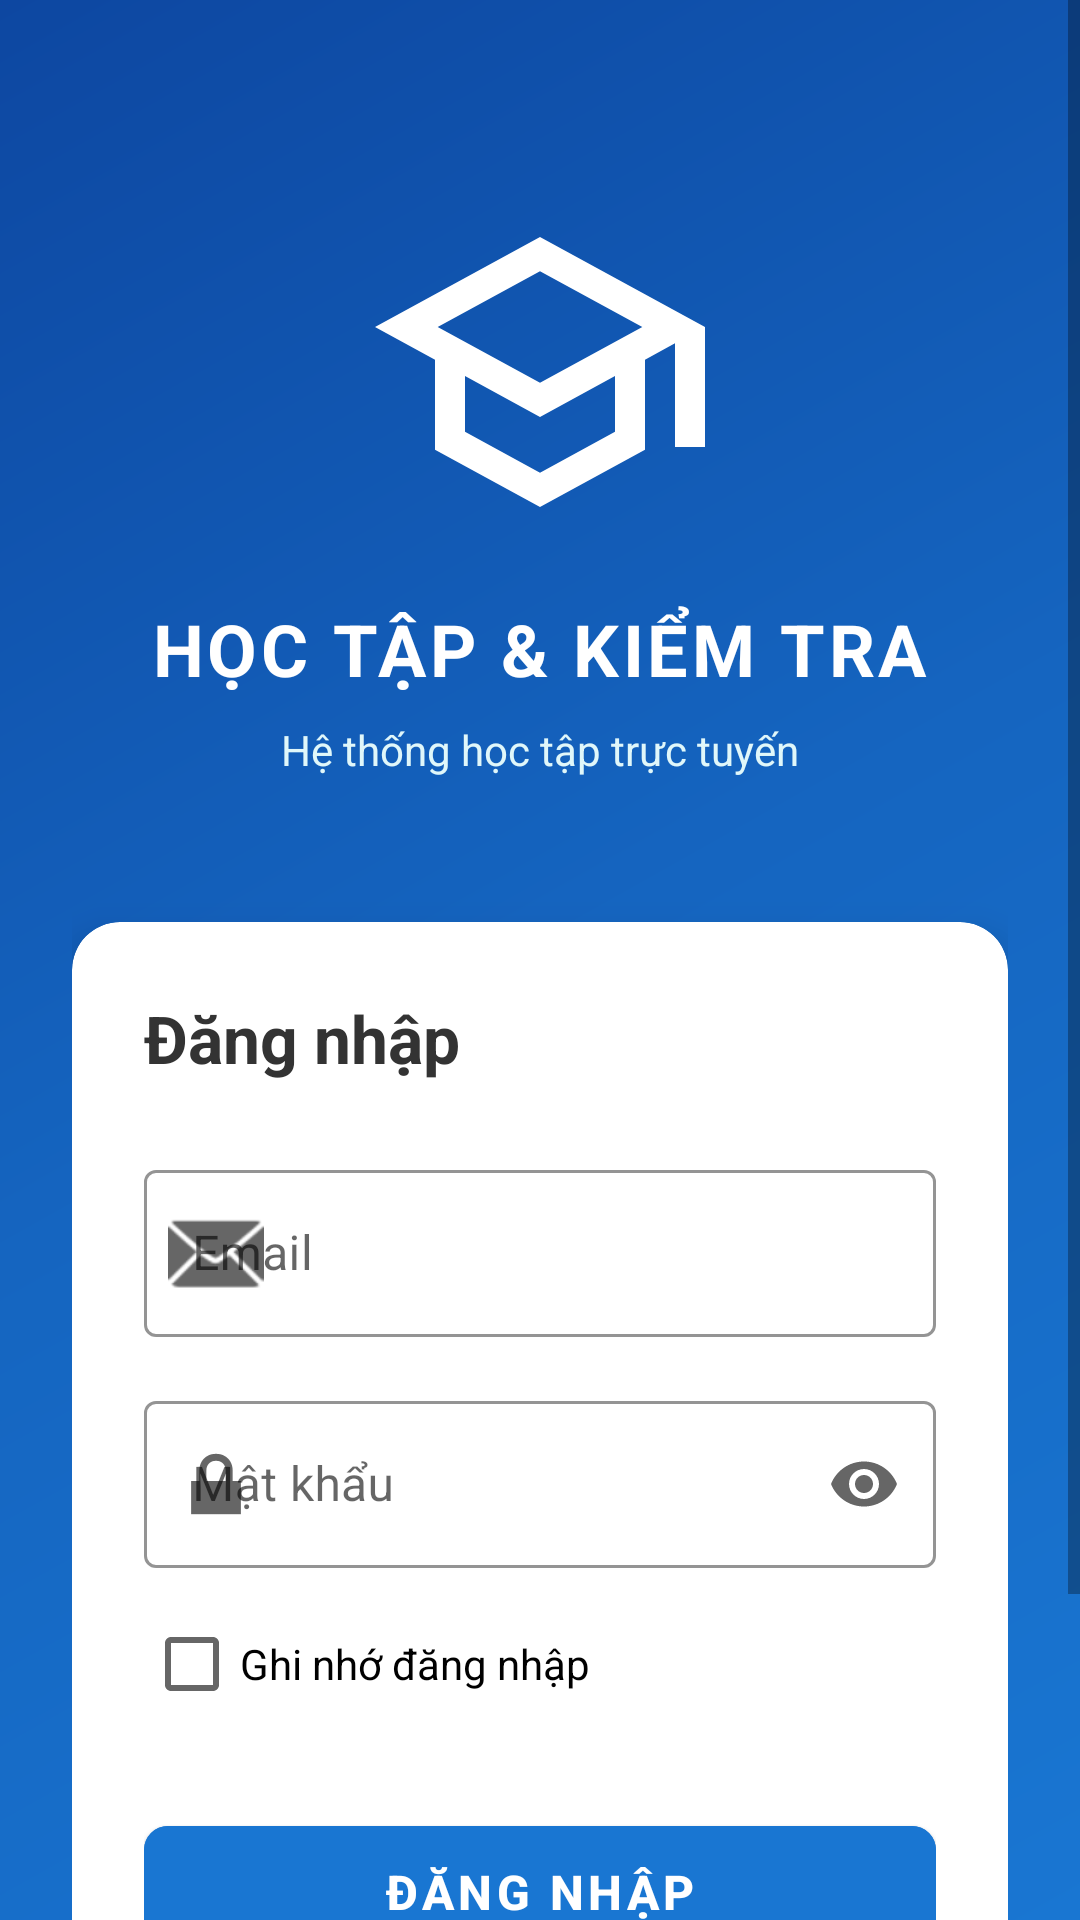

Named icons in this screenshot (1080*1920) and their centers, [x,y]:
school: [540,372]
